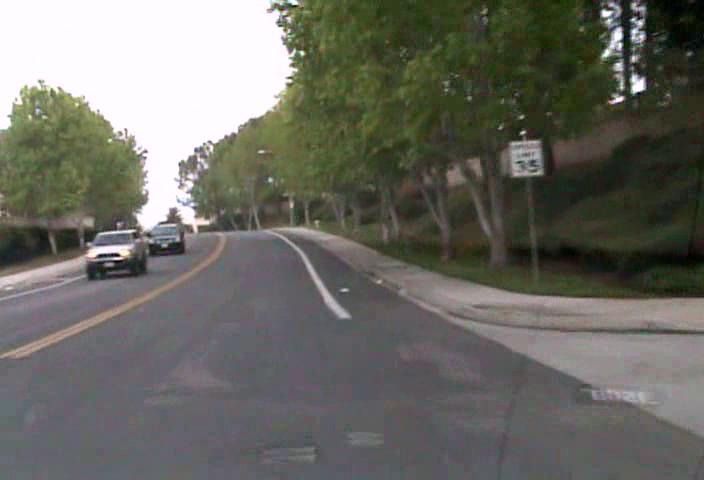speedLimit35: (509, 138, 545, 178)
